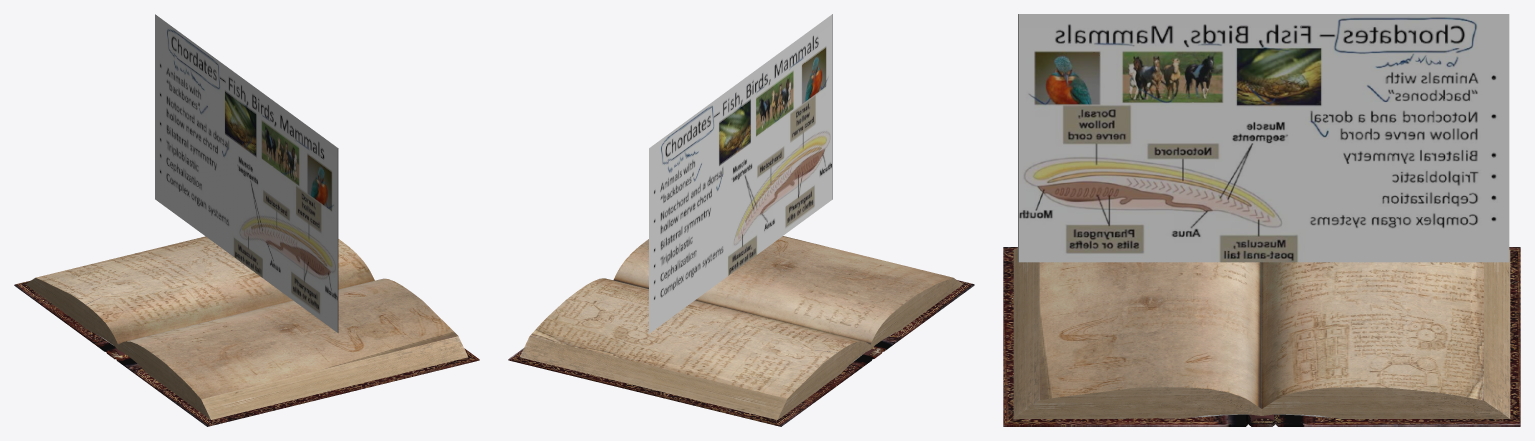
File: chordate.glb
3 views of the same model, side by side, from view 1: azimuth 30°, elevation 25°; view 2: azimuth 150°, elevation 25°; view 3: azimuth 270°, elevation 25° (orthographic). The views are drawn at different scales.
Visible parts, largest first — view 1: polySurface23, chordate_background, polySurface21; view 2: polySurface23, chordate_background, polySurface21; view 3: chordate_background, polySurface23, polySurface21.
Boxes of the visible parts, bbox=[...] form: polySurface23: bbox=[26, 236, 467, 419]; chordate_background: bbox=[155, 14, 338, 332]; polySurface21: bbox=[14, 280, 479, 426]; polySurface23: bbox=[520, 236, 962, 419]; chordate_background: bbox=[649, 14, 832, 333]; polySurface21: bbox=[508, 280, 974, 426]; chordate_background: bbox=[1018, 14, 1509, 262]; polySurface23: bbox=[1013, 247, 1510, 418]; polySurface21: bbox=[1003, 247, 1520, 426].
Size of the model in its own units: 2.91 by 2.47 by 3.57.
Materials: 6 (4 with a texture image).
